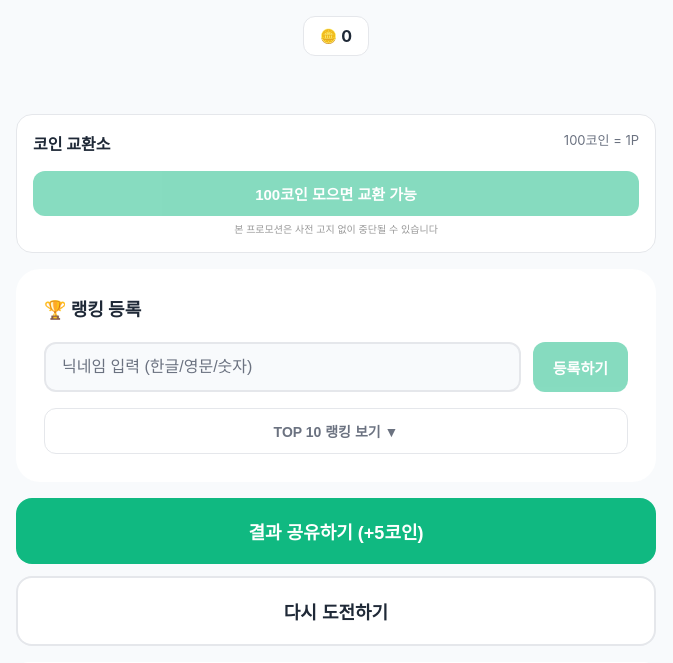
Scenario: ResultPage › 랭킹 등록 › should enable submit button when nickname is entered
(page scrolled)
Type "테스트유저" into the field with placeholder "닉네임 입력 (한글/영문/숫자)" at (282, 367), box [44,342,521,392]
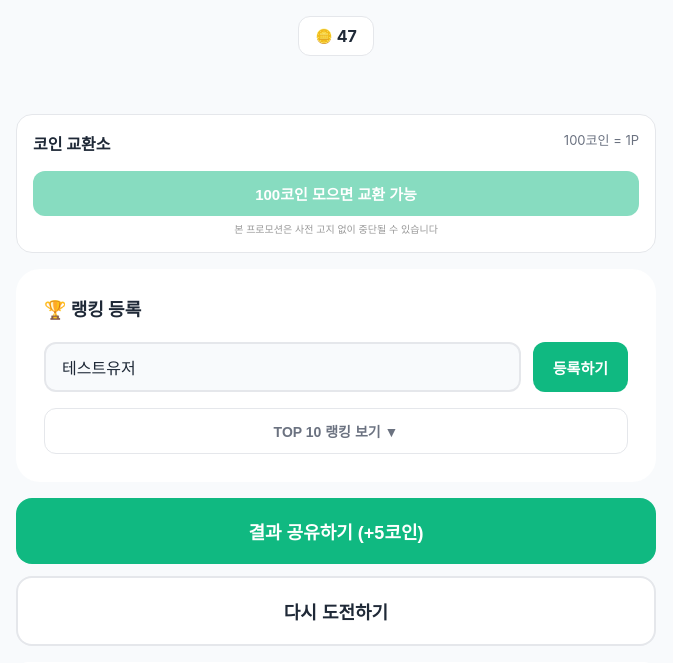
Expected: the button "등록하기" is enabled, [533,342,628,392]
